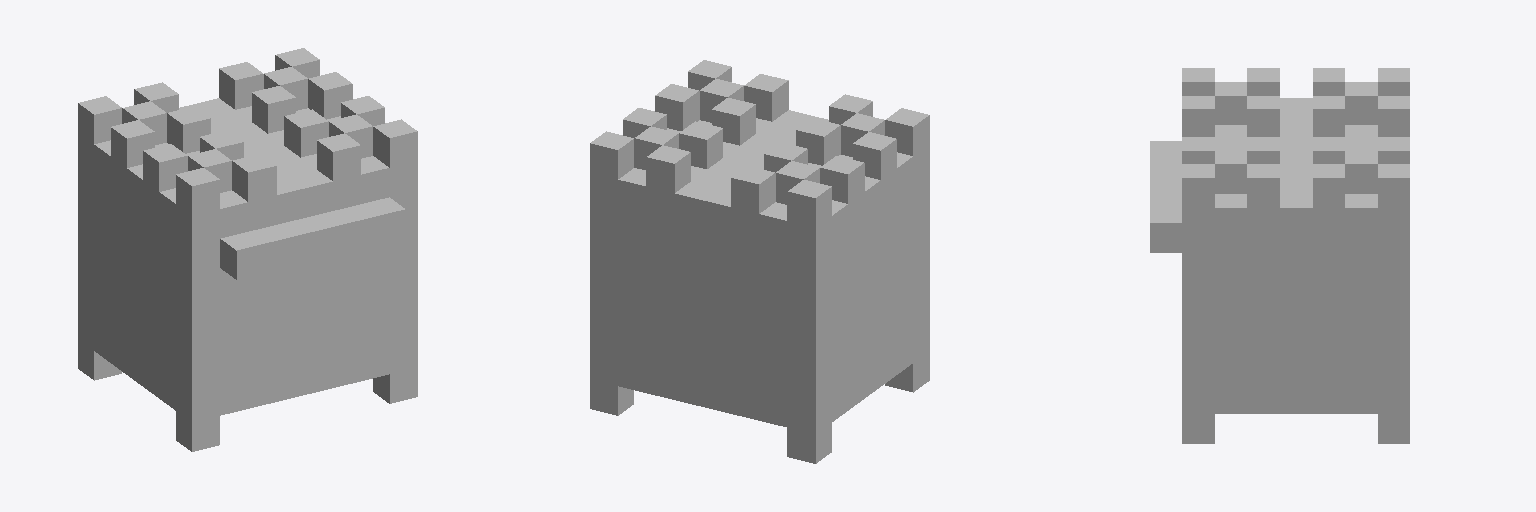
Rendered from stove.obj.
3 views of the same model, side by side, from view 1: azimuth 30°, elevation 25°; view 2: azimuth 150°, elevation 25°; view 3: azimuth 270°, elevation 25° (orthographic).
Visible parts, largest first — view 1: stove; view 2: stove; view 3: stove.
Part boxes in pixels (x1,y1,x2,y2): stove: (78, 48, 417, 451); stove: (590, 60, 929, 463); stove: (1150, 68, 1409, 443).
Size of the model in its own units: 8 by 9 by 8.